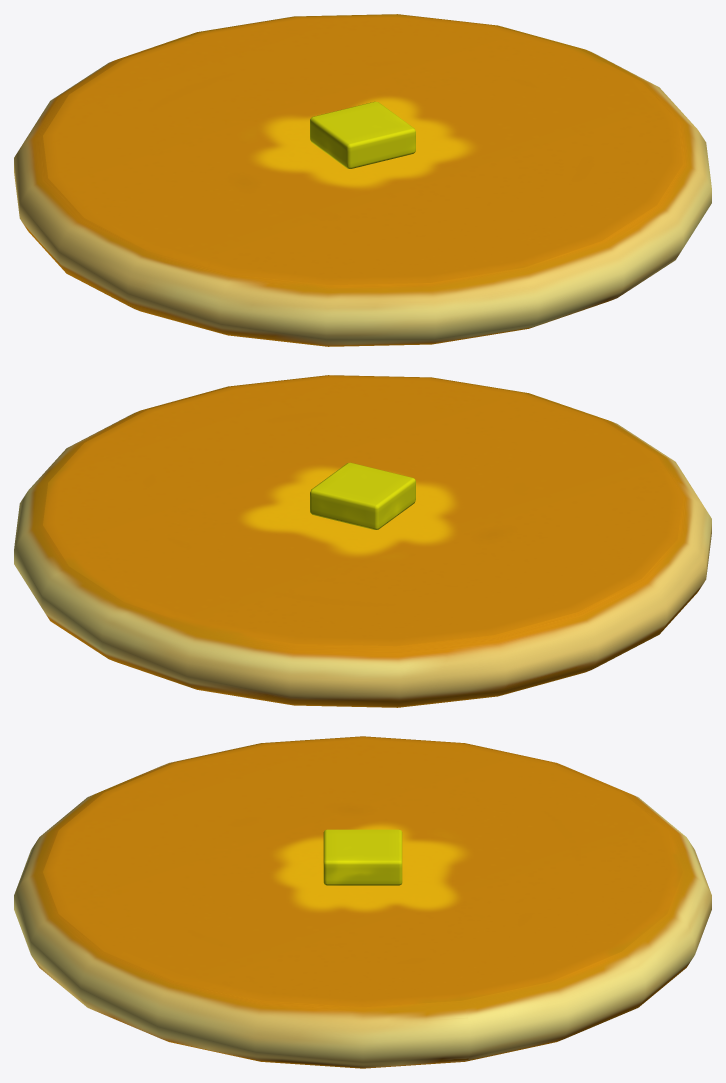
Rendered from pancake.fbx.
The picture shows the model from 3 angles, top to bottom: view 1: azimuth 30°, elevation 25°; view 2: azimuth 150°, elevation 25°; view 3: azimuth 270°, elevation 25°; orthographic projection.
Parts seen in each view (by area): view 1: pancake, butter; view 2: pancake, butter; view 3: pancake, butter.
Part boxes in pixels (bbox=[...]): pancake: bbox=[14, 14, 711, 346]; butter: bbox=[310, 101, 415, 168]; pancake: bbox=[14, 375, 711, 707]; butter: bbox=[310, 462, 415, 529]; pancake: bbox=[14, 736, 711, 1068]; butter: bbox=[323, 829, 402, 885].
Size of the model in its own units: 5.71 by 5.71 by 0.8121.
Materials: 2 (2 with a texture image).
